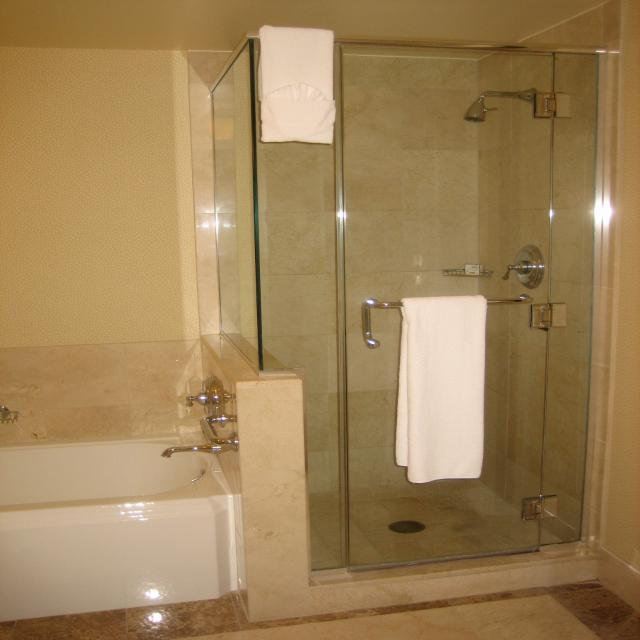bathtub: (0, 433, 239, 624)
ceiling beam: (0, 0, 610, 60)
floor -X: (1, 579, 640, 640)
shower crop: (214, 31, 611, 578)
towel basket: (395, 293, 488, 484), (255, 26, 337, 148)
